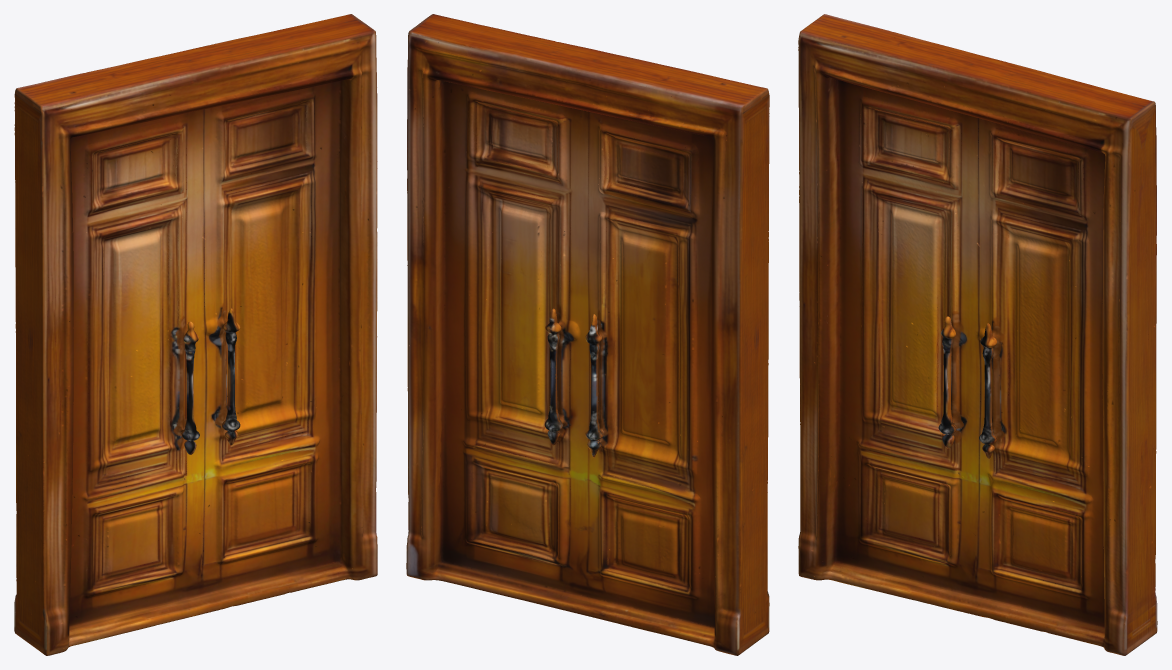
The model's file is carved wooden door.glb.
3 renders of one model, left to right at view 1: azimuth 30°, elevation 25°; view 2: azimuth 150°, elevation 25°; view 3: azimuth 330°, elevation 25°, orthographic.
Bounding box in the file's own units: 1.29 × 2 × 0.2285.
1 material, 1 textured.
